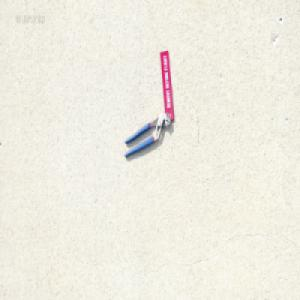Label: (158, 49, 174, 120)
Pliers: (124, 112, 170, 158)
